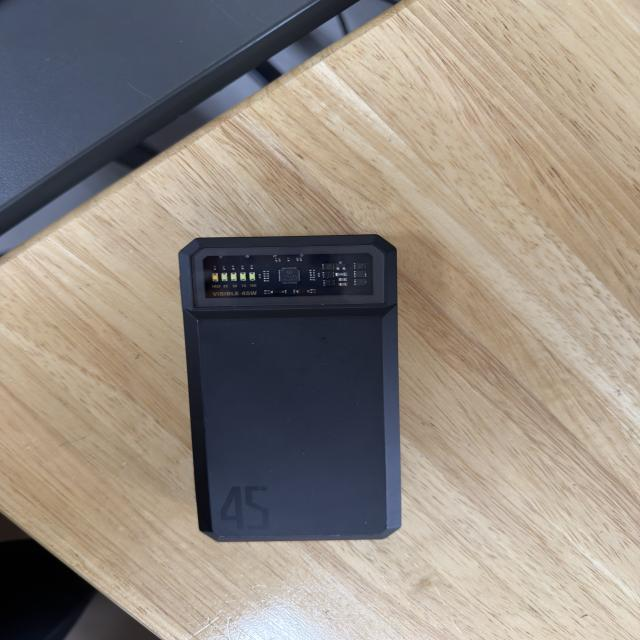power bank: (183, 231, 404, 540)
